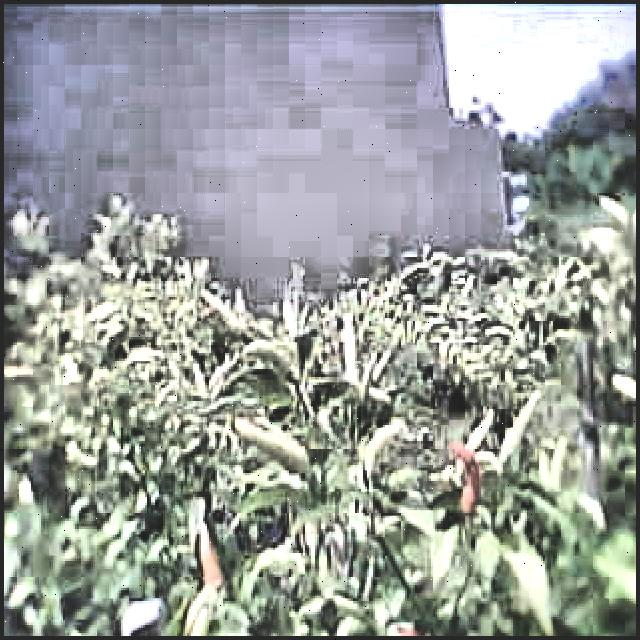Cabai: (174, 518, 242, 595), (431, 442, 495, 521)
